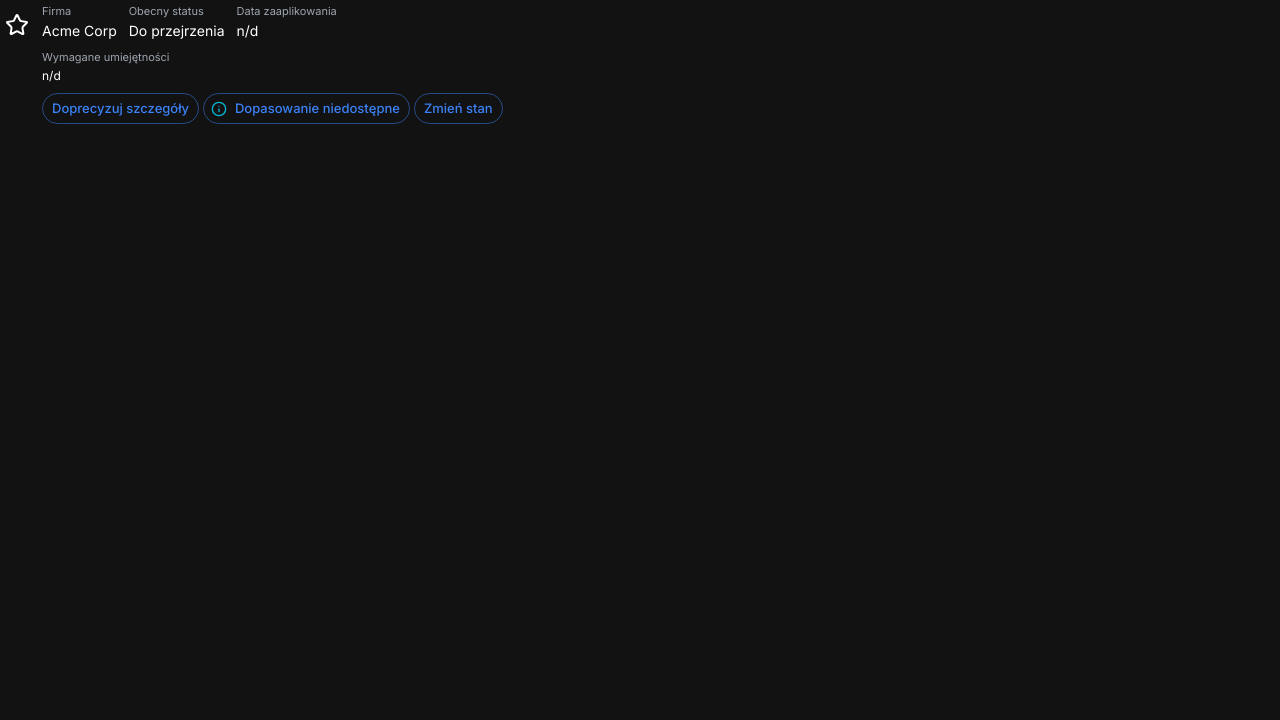
ApplicationStatusEditor › shows theprotocol cv match info instead of analyze button
Click the button "Dopasowanie niedostępne" at (306, 109), box [203,94,410,124]
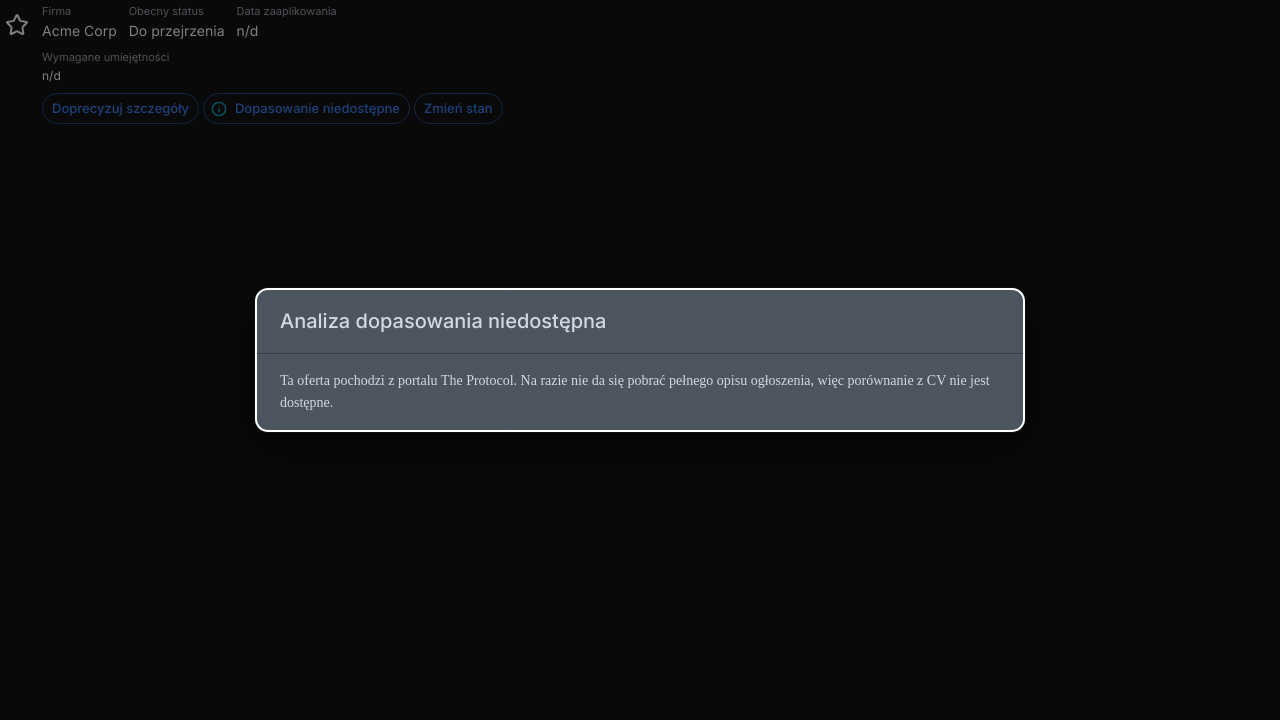
Check: the dialog shows "Analiza dopasowania niedostępna", box [280,309,606,333]
Check: the dialog shows "Ta oferta pochodzi z portalu The Protocol.", box [280,373,993,410]
